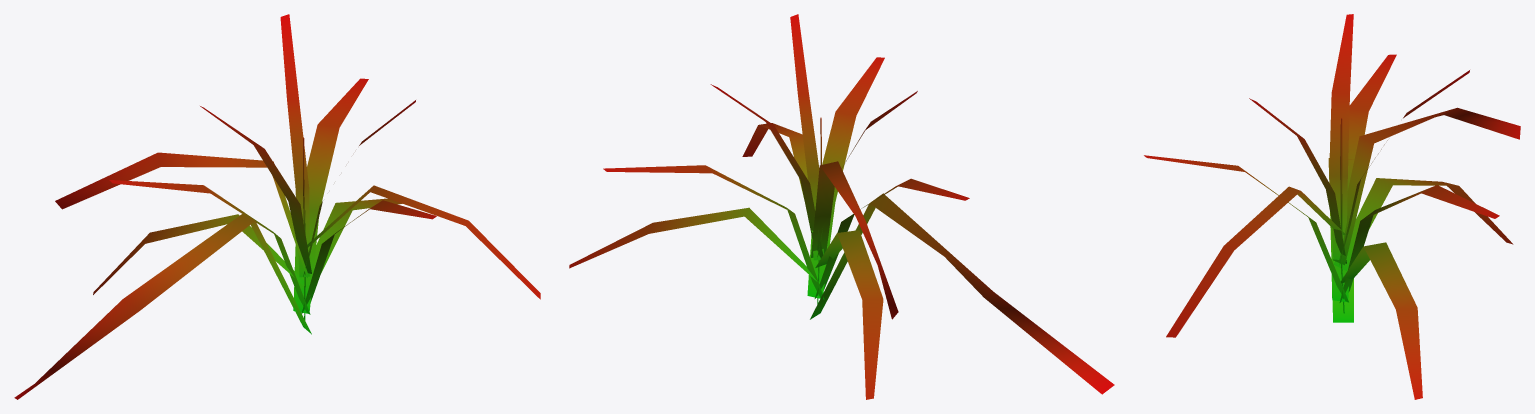
File: Var9_LOD2.fbx
3 renders of one model, left to right at view 1: azimuth 30°, elevation 25°; view 2: azimuth 150°, elevation 25°; view 3: azimuth 270°, elevation 25°, orthographic. The views are drawn at different scales.
Parts seen in each view (by area): view 1: _62f7_Var9_LOD2; view 2: _62f7_Var9_LOD2; view 3: _62f7_Var9_LOD2.
Boxes of the visible parts, left/top/right/bottom form: _62f7_Var9_LOD2: left=14, top=14, right=540, bottom=399; _62f7_Var9_LOD2: left=569, top=14, right=1114, bottom=399; _62f7_Var9_LOD2: left=1144, top=14, right=1520, bottom=399.
Size of the model in its own units: 40.91 by 20.72 by 25.98.
